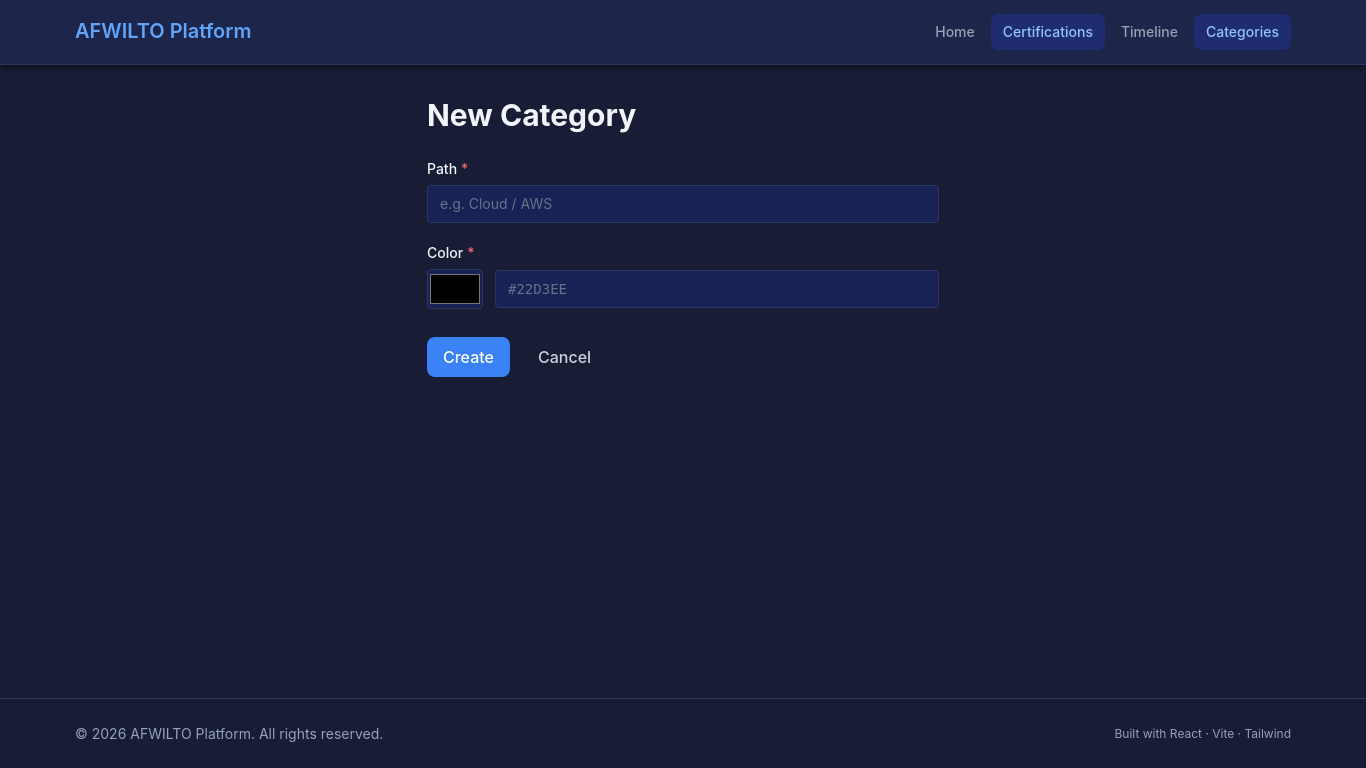
Test: CategoryFormPage › AC-5: a duplicate path shows the backend message via toast, the user stays on the form
The width and height of the screenshot is (1366, 768).
Type "Cloud / AWS" into the field labelled "Path*" at (683, 204), box [427,184,939,222]
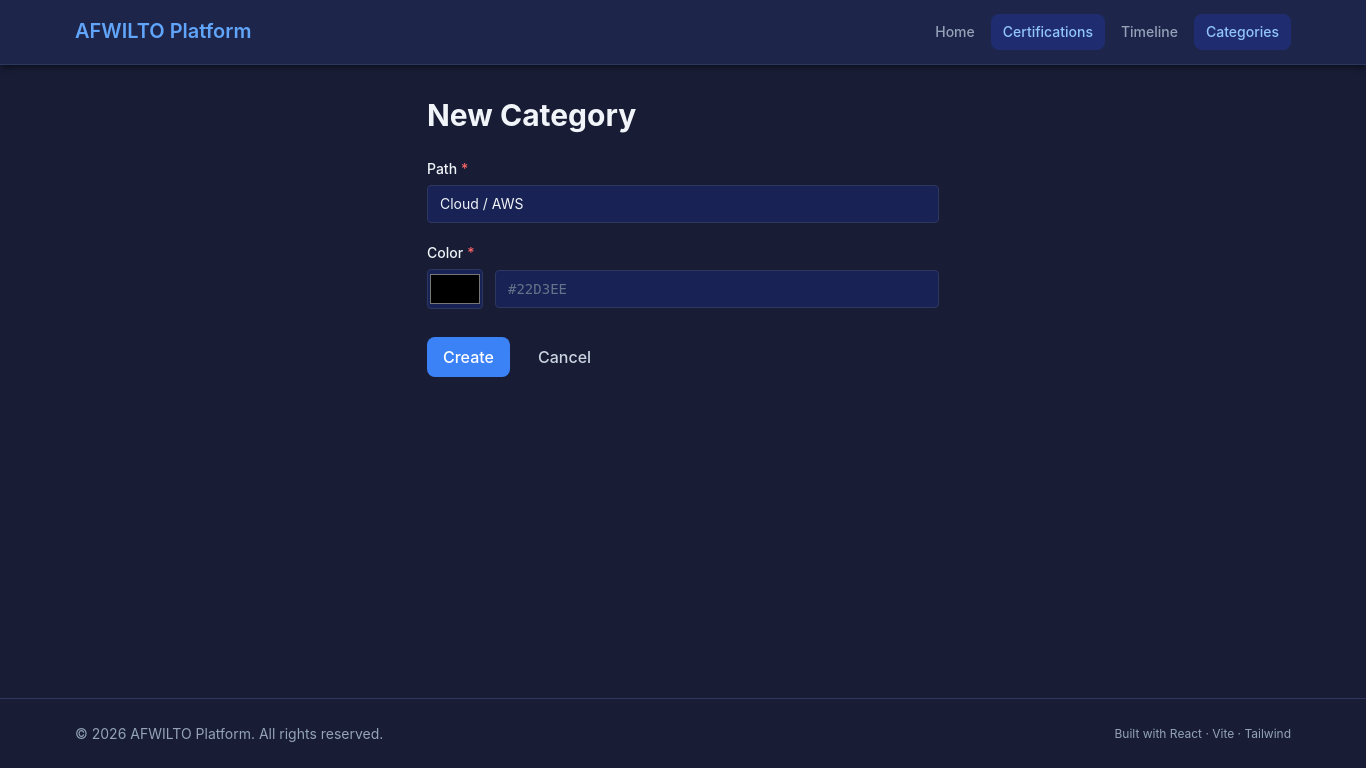
Type "#34D399" into the field labelled "Color" at (717, 288), box [495,270,939,308]
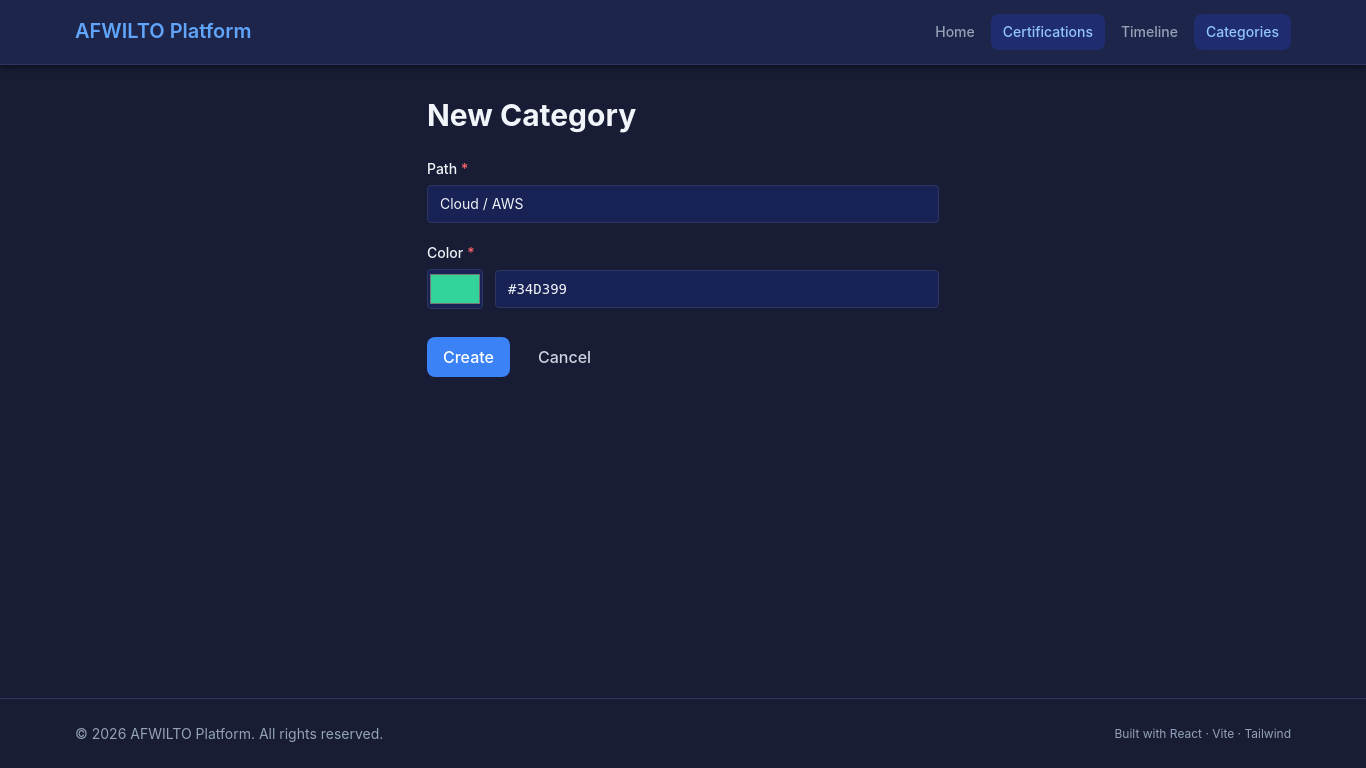
Click the button "Create" at (468, 356), box [427,336,510,376]
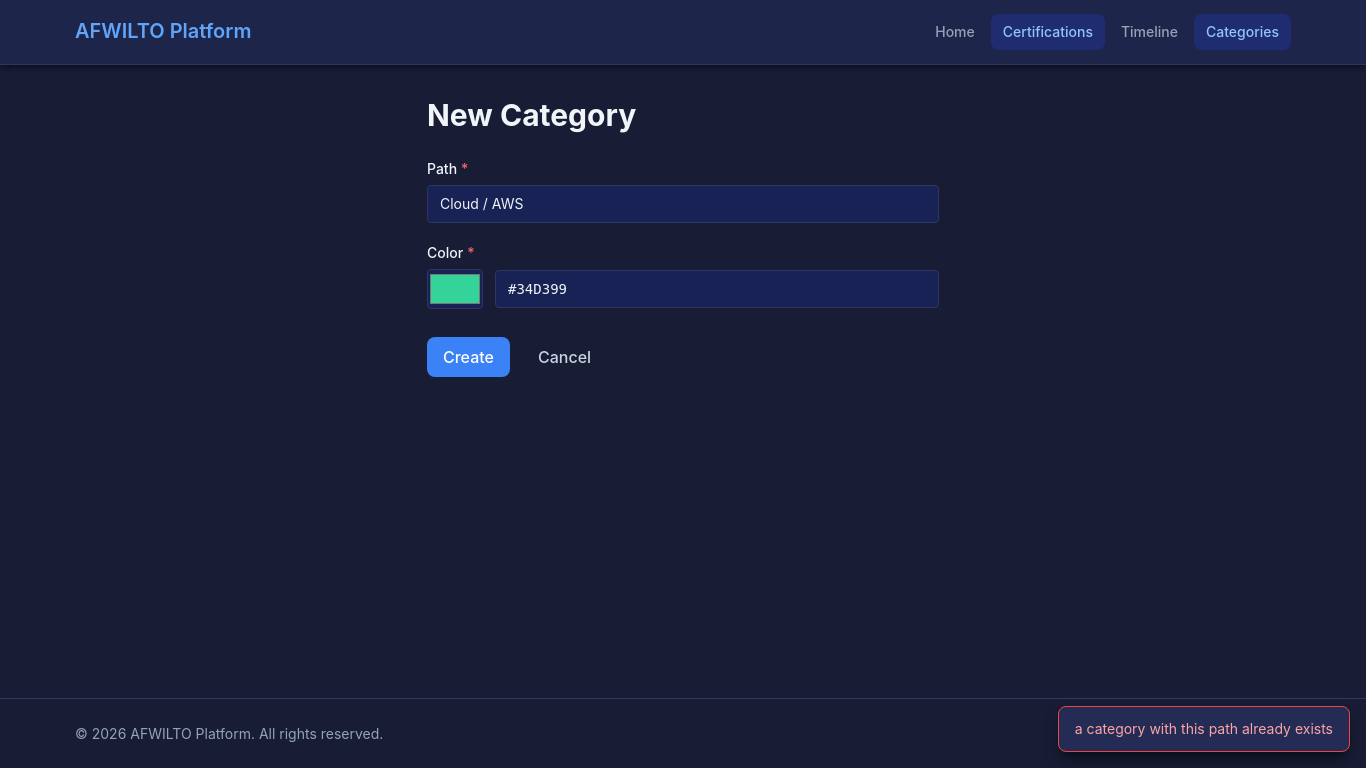
Check: the text "a category with this path already exists" is shown, box [1058,706,1350,752]
